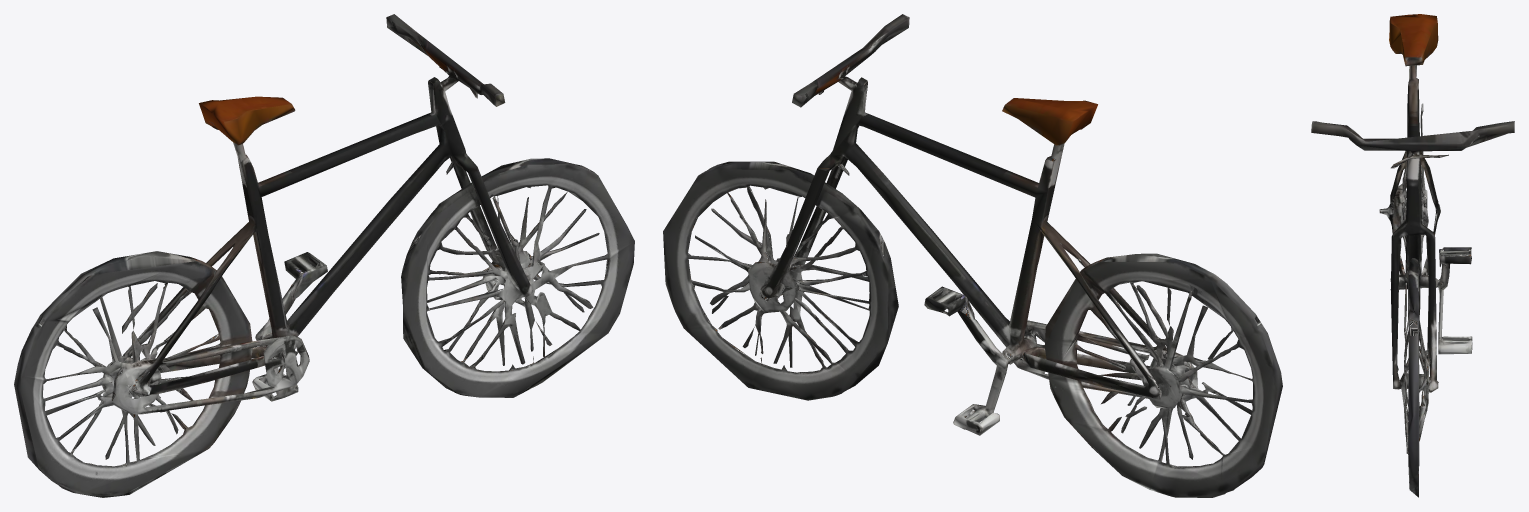
Rendered from bicycle-black.glb.
3 renders of one model, left to right at view 1: azimuth 30°, elevation 25°; view 2: azimuth 150°, elevation 25°; view 3: azimuth 270°, elevation 25°, orthographic. The views are drawn at different scales.
Bounding box in the file's own units: 1.98 × 1.12 × 0.6099.
Materials: 1 (1 with a texture image).
